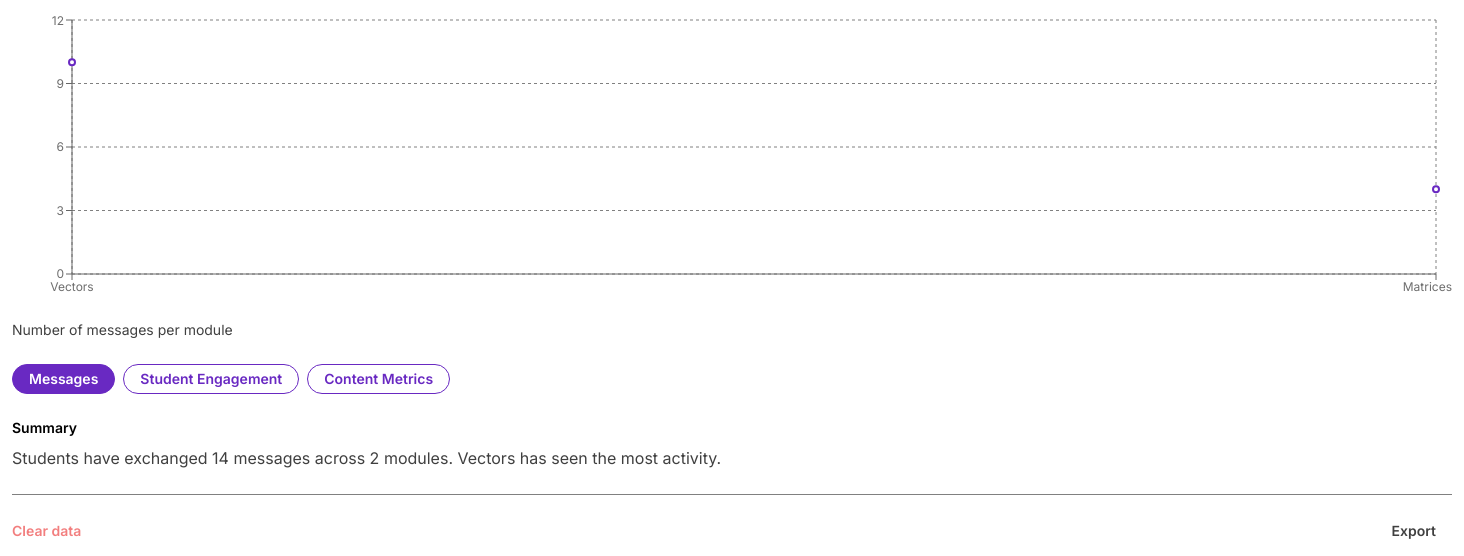
Test: InsightsTab › switches the chart title + summary when another metric is selected
This screenshot has width=1464, height=556.
Click the button "Content Metrics" at (379, 379), box [307, 364, 450, 394]
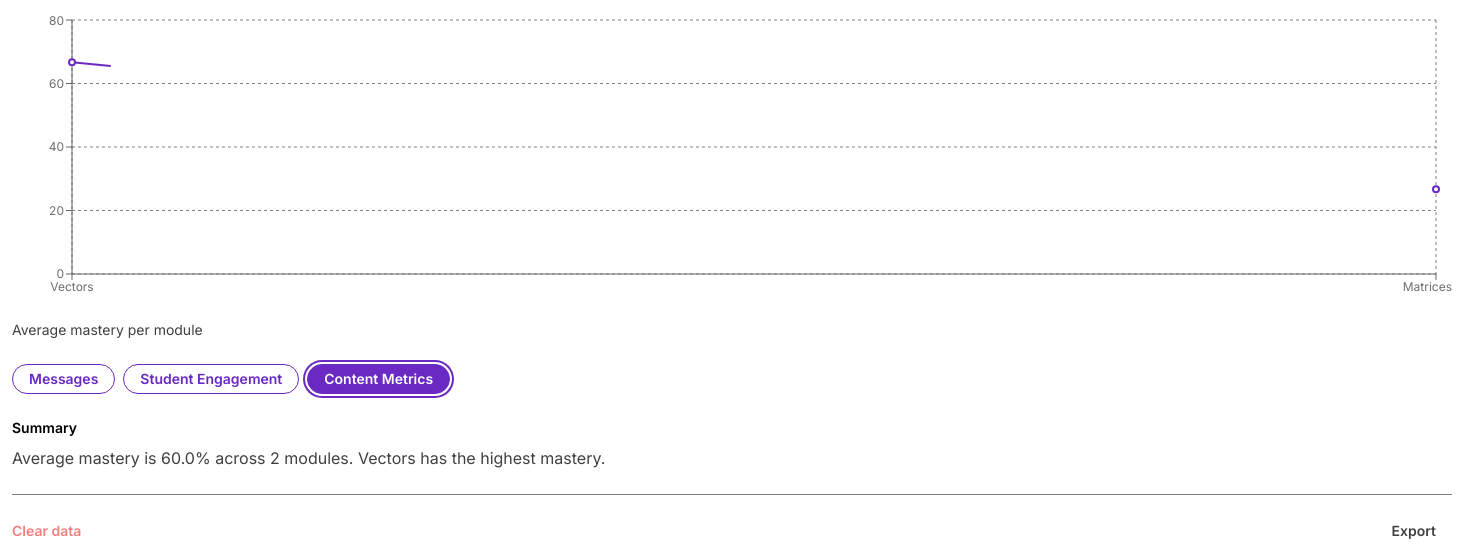
Check: the text "Average mastery per module" is shown, box [12, 321, 203, 338]
Check: the text "Average mastery is 60.0%" is shown, box [12, 448, 605, 468]
Click the button "Student Engagement" at (211, 379), box [123, 364, 299, 394]
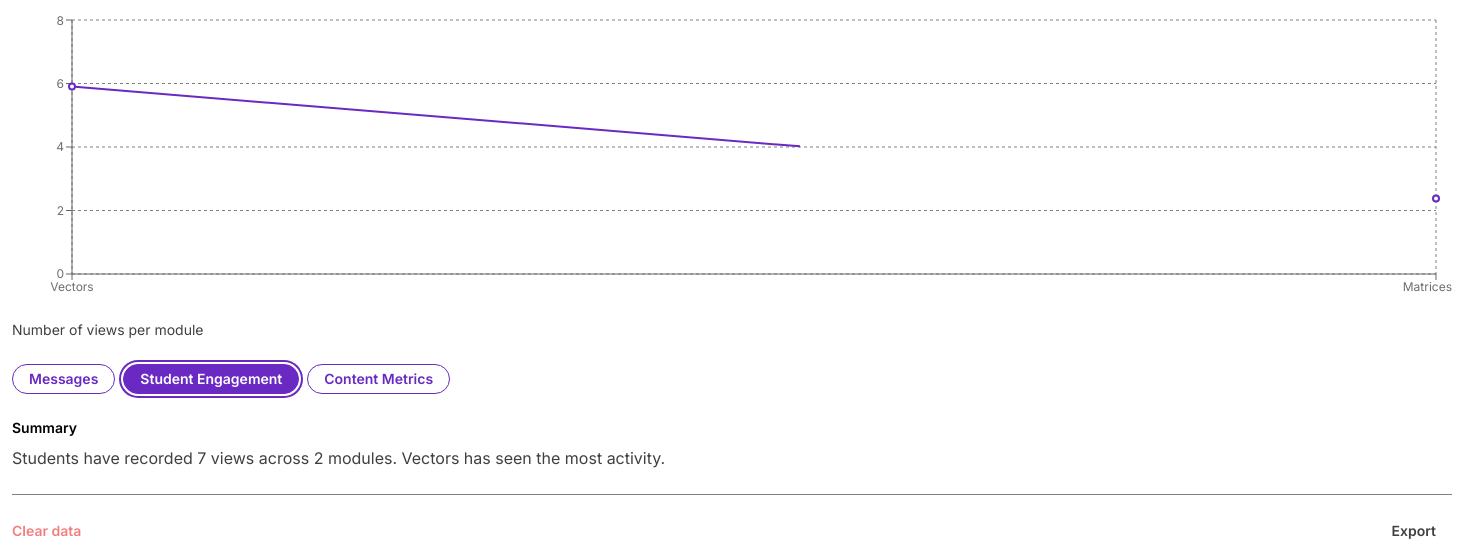
Check: the text "Number of views per module" is shown, box [12, 321, 204, 338]
Check: the text "7 views across 2 modules" is shown, box [12, 448, 665, 468]
